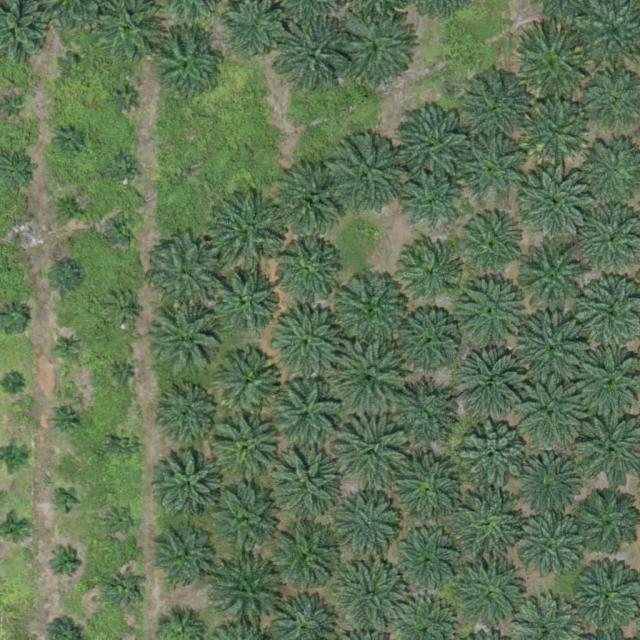Healthy: (274, 17, 352, 96), (339, 11, 417, 90), (393, 107, 471, 186), (327, 140, 405, 219), (213, 193, 291, 272), (331, 339, 409, 418), (333, 270, 411, 349), (449, 489, 527, 568), (455, 558, 533, 637), (267, 444, 345, 523), (334, 411, 412, 490), (522, 165, 593, 236), (276, 165, 347, 236), (269, 379, 340, 450), (512, 447, 583, 518), (152, 30, 223, 100), (520, 245, 591, 315), (517, 315, 587, 386), (454, 274, 524, 345), (454, 351, 524, 422), (516, 383, 587, 453), (270, 306, 340, 377), (518, 515, 588, 586), (459, 421, 529, 492), (339, 560, 409, 631), (271, 525, 341, 596), (214, 560, 284, 631), (211, 487, 281, 558), (213, 414, 283, 485), (151, 239, 221, 309), (156, 305, 226, 375), (394, 455, 464, 525), (397, 310, 460, 373), (214, 270, 277, 333), (395, 535, 458, 598), (340, 498, 403, 561), (469, 76, 531, 139), (461, 138, 523, 201), (459, 213, 521, 276), (400, 171, 462, 234), (399, 242, 461, 305), (388, 387, 450, 450), (218, 350, 280, 413), (151, 532, 213, 595), (276, 238, 338, 300), (159, 454, 221, 516), (162, 389, 216, 444)
Small: (46, 258, 85, 298), (108, 573, 147, 612), (50, 548, 81, 580), (108, 294, 139, 326), (56, 191, 87, 223), (111, 431, 142, 462), (55, 123, 86, 154), (108, 215, 139, 246), (110, 84, 141, 115), (108, 153, 139, 184), (60, 50, 91, 81), (53, 334, 84, 365), (105, 505, 136, 536), (52, 405, 83, 436), (54, 489, 78, 513), (115, 368, 131, 383), (12, 225, 27, 240), (5, 377, 20, 392)
Yellow: (514, 29, 592, 107), (525, 100, 587, 163)
